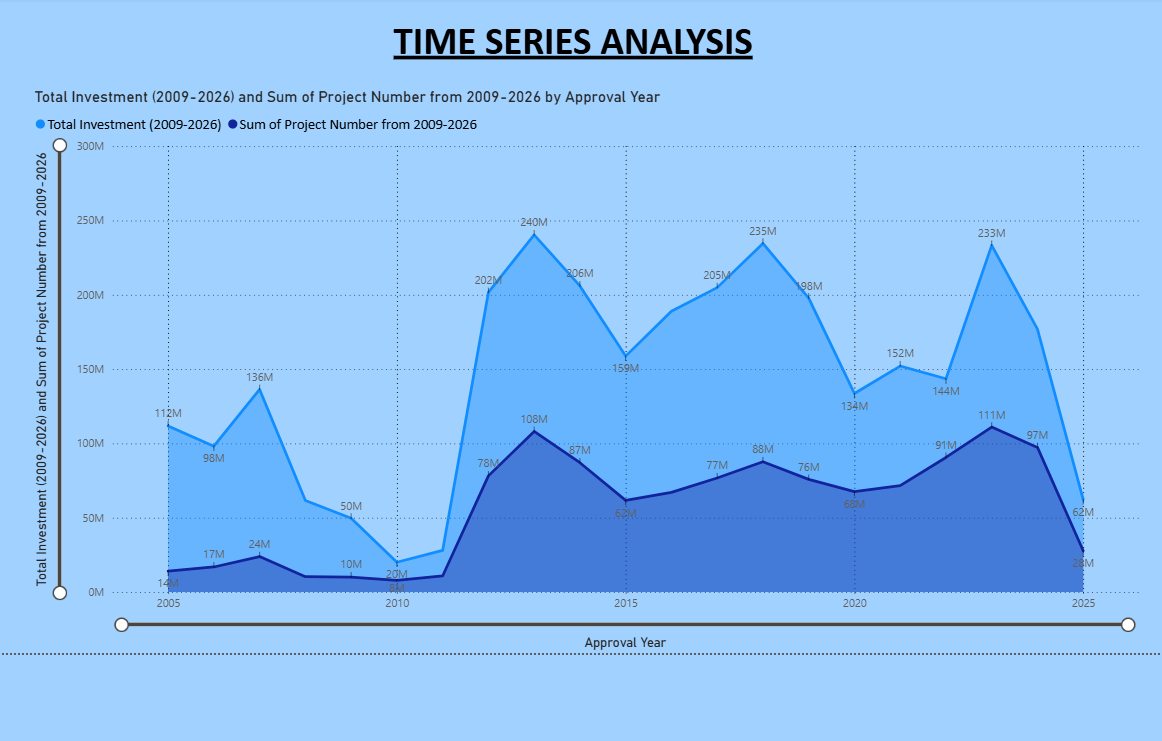

The page's visual inventory and layout, read from the dashboard file:
{"tool":"powerbi","page":{"name":"Page 9","canvas":[1280,720],"ordinal":8},"visuals":[{"type":"lineChart","fields":{"Category":["Cleaned dataset.Approval Year"],"Y":["Cleaned dataset.Total Investment (2009-2026)","Sum(Cleaned dataset.Project Number from 2009-2026)"]},"box":[32.9,98.8,1224,621.6],"z":0},{"type":"textbox","box":[207.2,16.5,843.9,61.7],"z":1000}]}

Visuals, with their boxes on the page's 1280x720 design canvas (x1, y1, x2, y2). These are canvas units, not pixel positions in the 1162x741 screenshot, which may show the page scaled, cropped or inside an application window:
lineChart - Cleaned dataset.Approval Year x Cleaned dataset.Total Investment (2009-2026): (left=33, top=99, right=1257, bottom=720)
textbox: (left=207, top=16, right=1051, bottom=78)
